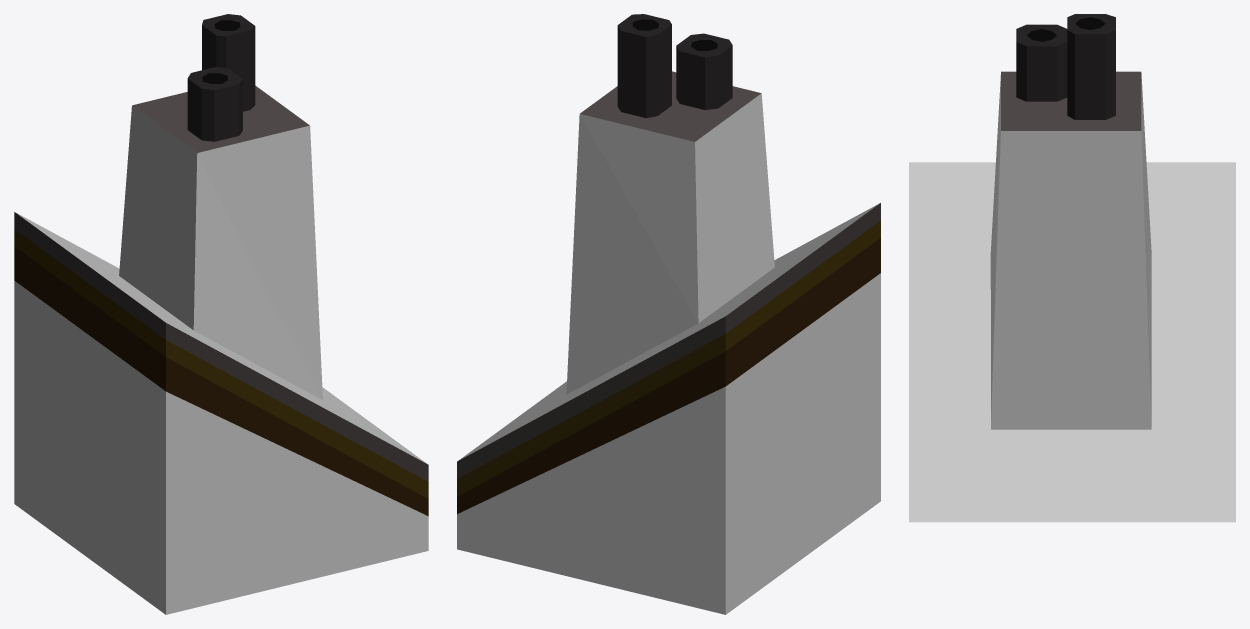
Rendered from model_loc_1632_a.obj.
3 views of the same model, side by side, from view 1: azimuth 30°, elevation 25°; view 2: azimuth 150°, elevation 25°; view 3: azimuth 270°, elevation 25° (orthographic). The views are drawn at different scales.
Parts seen in each view (by area): view 1: 629; view 2: 629; view 3: 629.
Part boxes in pixels (x1=…): 629: x1=14, y1=14, x2=428, y2=614; 629: x1=457, y1=14, x2=880, y2=614; 629: x1=909, y1=14, x2=1235, y2=522.
Size of the model in its own units: 128 by 229 by 128.
